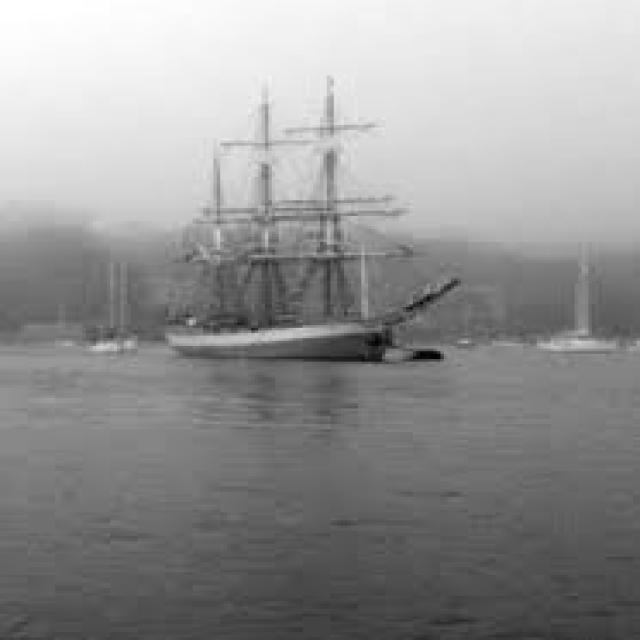fishing boat: (145, 72, 447, 364)
